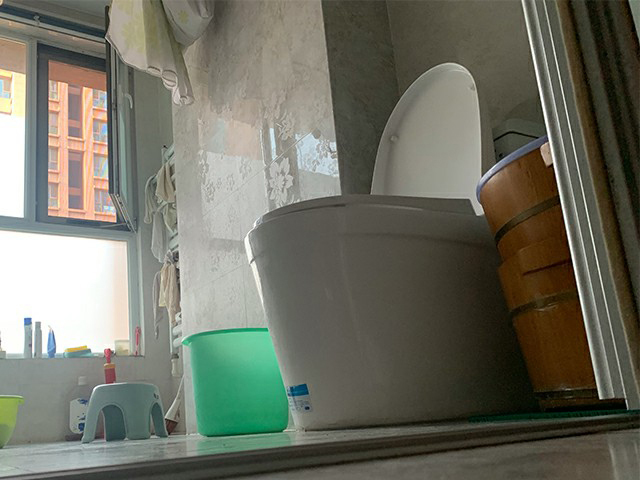closestool: (243, 61, 544, 430)
stool: (81, 381, 169, 445)
